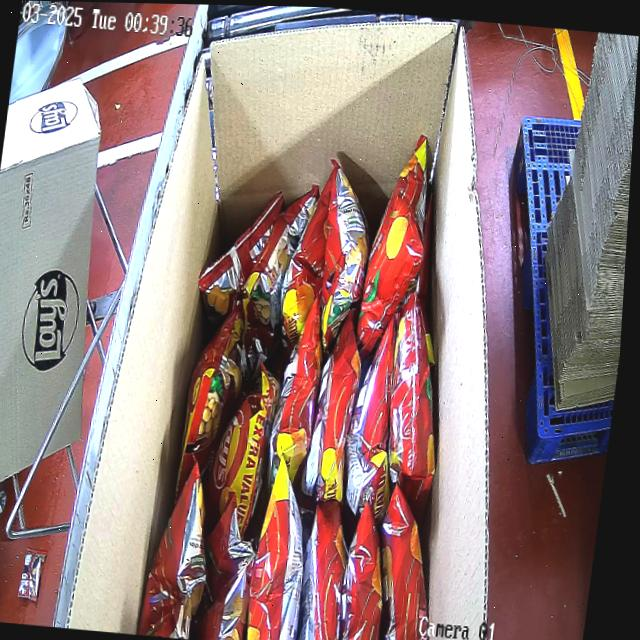MASALA: (136, 114, 493, 640), (66, 360, 72, 362)
